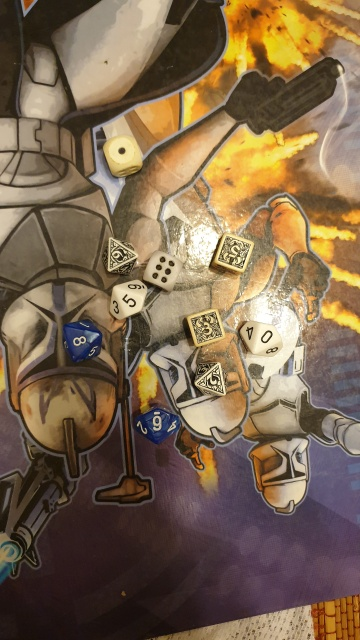d10-10: (237, 315, 283, 360)
d10-5: (100, 280, 154, 321)
d10-6: (131, 404, 183, 446)
d10-8: (61, 316, 102, 363)
d6-1: (101, 134, 143, 171)
d6-6: (140, 249, 185, 293)
d6p-3: (181, 309, 229, 348)
d6p-5: (211, 230, 252, 277)
d8p-2: (193, 356, 228, 402)
d8p-6: (102, 236, 140, 275)
